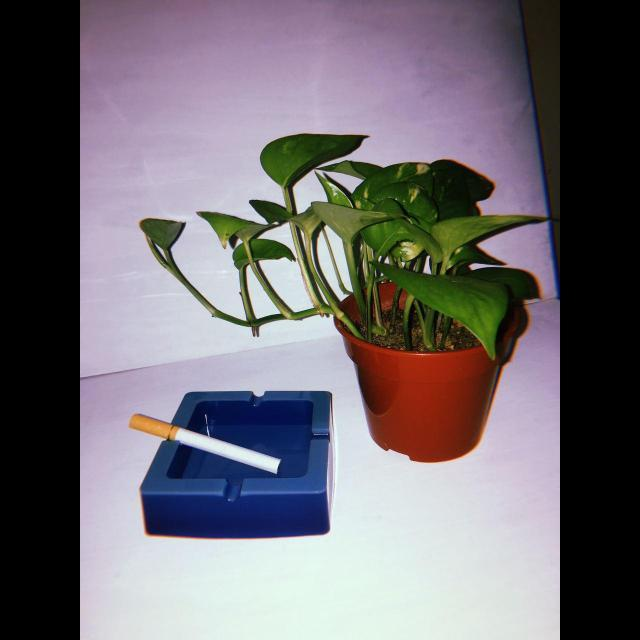rokok: (129, 412, 285, 476)
